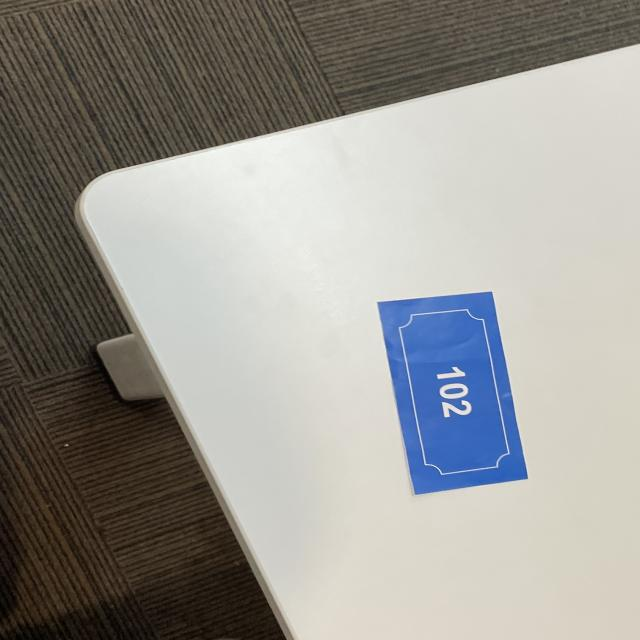Card: (367, 268, 556, 517)
